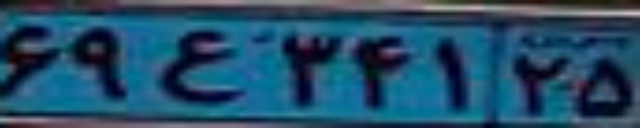1: (432, 38, 467, 113)
2: (511, 54, 571, 116)
3: (281, 34, 345, 106)
4: (352, 35, 416, 109)
5: (574, 56, 637, 118)
6: (1, 24, 60, 99)
9: (68, 24, 132, 102)
ain: (151, 28, 251, 104)
